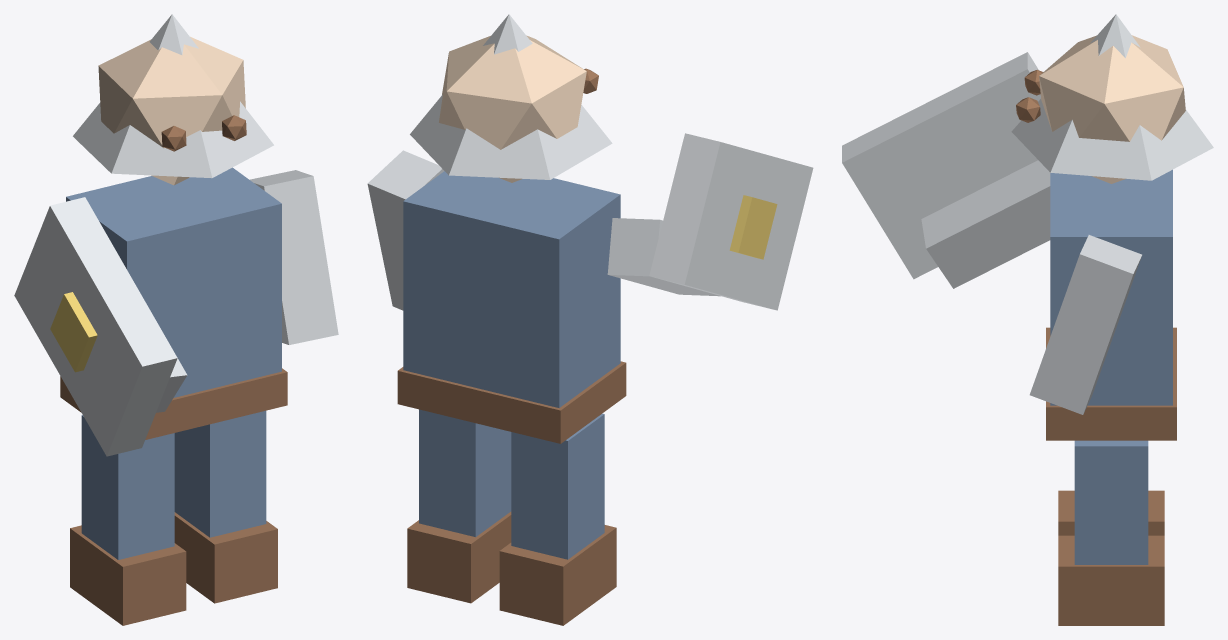
Rendered from npcpose_guard_idle_06.glb.
3 views of the same model, side by side, from view 1: azimuth 30°, elevation 25°; view 2: azimuth 150°, elevation 25°; view 3: azimuth 270°, elevation 25° (orthographic).
Visible parts, largest first — view 1: npcpose; view 2: npcpose; view 3: npcpose.
Boxes of the visible parts, bbox=[...] form: npcpose: bbox=[14, 14, 338, 625]; npcpose: bbox=[367, 14, 813, 625]; npcpose: bbox=[842, 14, 1213, 625].
Size of the model in its own units: 0.8715 by 1.55 by 0.9099.
